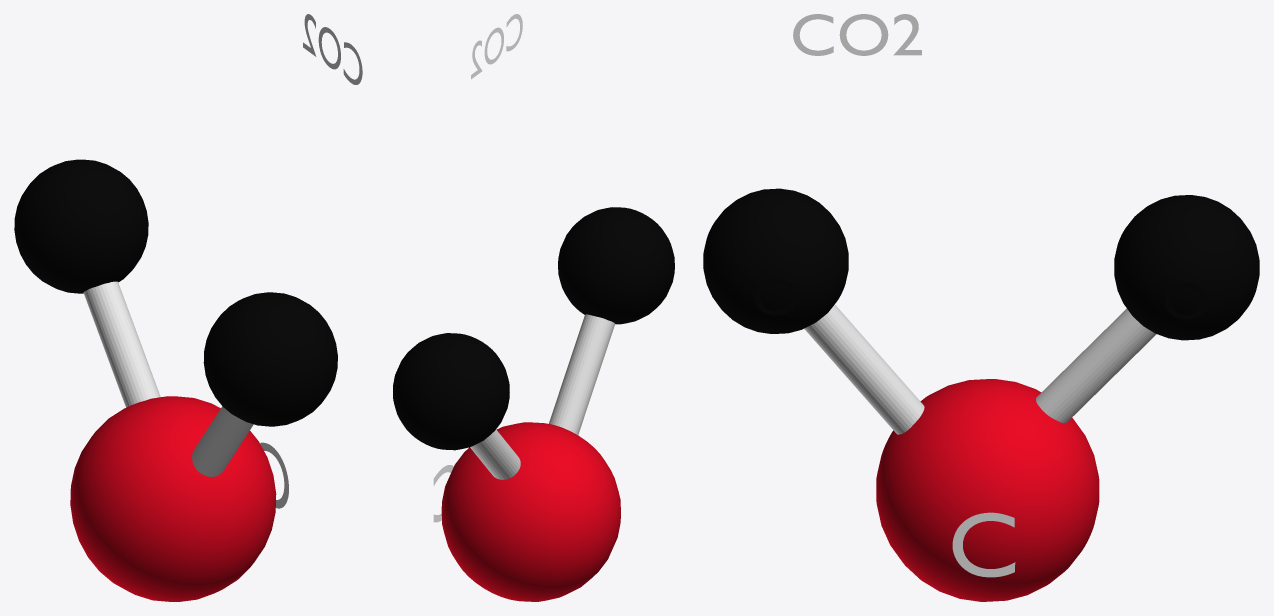
3 renders of one model, left to right at view 1: azimuth 30°, elevation 25°; view 2: azimuth 150°, elevation 25°; view 3: azimuth 270°, elevation 25°, orthographic. The views are drawn at different scales.
Visible parts, largest first — view 1: Text.013, Sphere.005, Sphere.007, Cylinder.004, Cylinder.003, Text.017; view 2: Text.013, Sphere.007, Sphere.005, Cylinder.003, Cylinder.004, Text.017; view 3: Text.013, Sphere.005, Sphere.007, Cylinder.003, Cylinder.004, Text.017.
Part boxes in pixels (left/top/right/bottom): Text.013: left=70, top=396, right=288, bottom=601; Sphere.005: left=203, top=292, right=337, bottom=426; Sphere.007: left=14, top=159, right=148, bottom=293; Cylinder.004: left=83, top=281, right=160, bottom=407; Cylinder.003: left=192, top=406, right=253, bottom=476; Text.017: left=303, top=14, right=362, bottom=84; Text.013: left=433, top=422, right=620, bottom=601; Sphere.007: left=393, top=333, right=509, bottom=450; Sphere.005: left=558, top=207, right=674, bottom=324; Cylinder.003: left=549, top=314, right=614, bottom=434; Cylinder.004: left=470, top=429, right=520, bottom=479; Text.017: left=471, top=14, right=522, bottom=79; Text.013: left=876, top=379, right=1099, bottom=601; Sphere.005: left=703, top=188, right=848, bottom=333; Sphere.007: left=1114, top=195, right=1259, bottom=340; Cylinder.003: left=804, top=304, right=924, bottom=434; Cylinder.004: left=1036, top=308, right=1156, bottom=423; Text.017: left=793, top=14, right=921, bottom=55.
Size of the model in its own units: 3.24 by 9.52 by 7.61.
